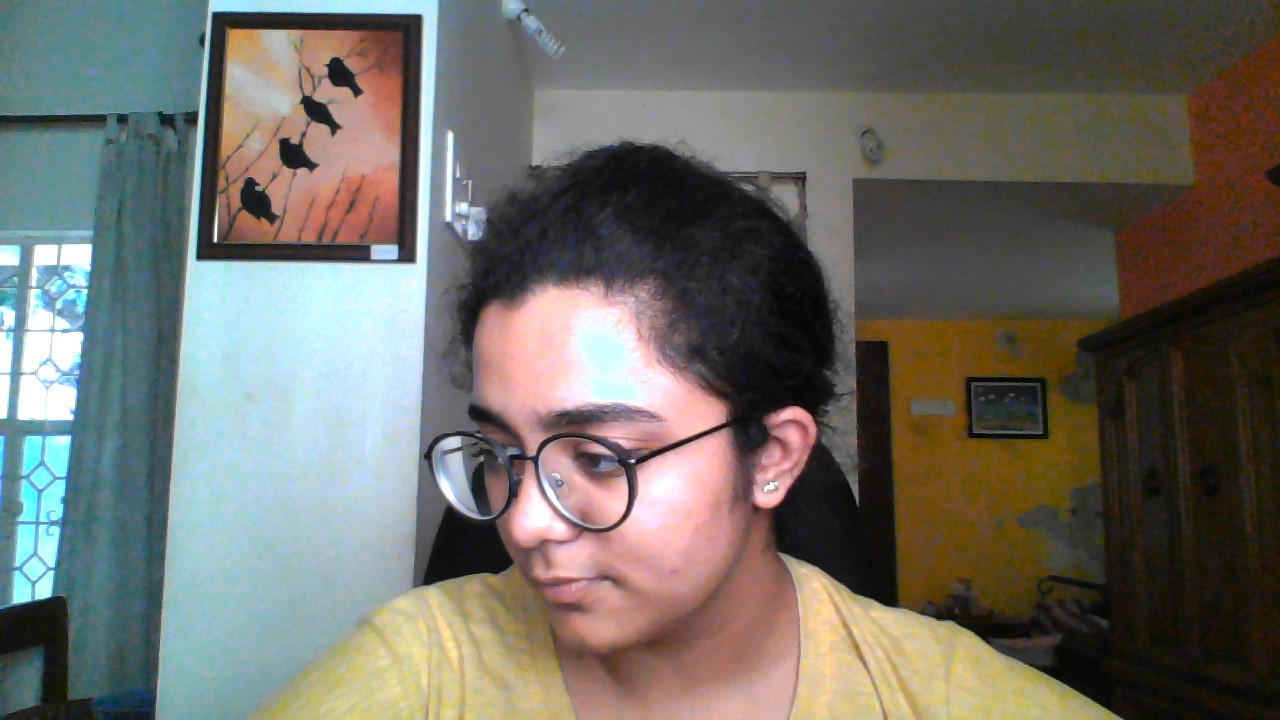person: (411, 110, 907, 720)
